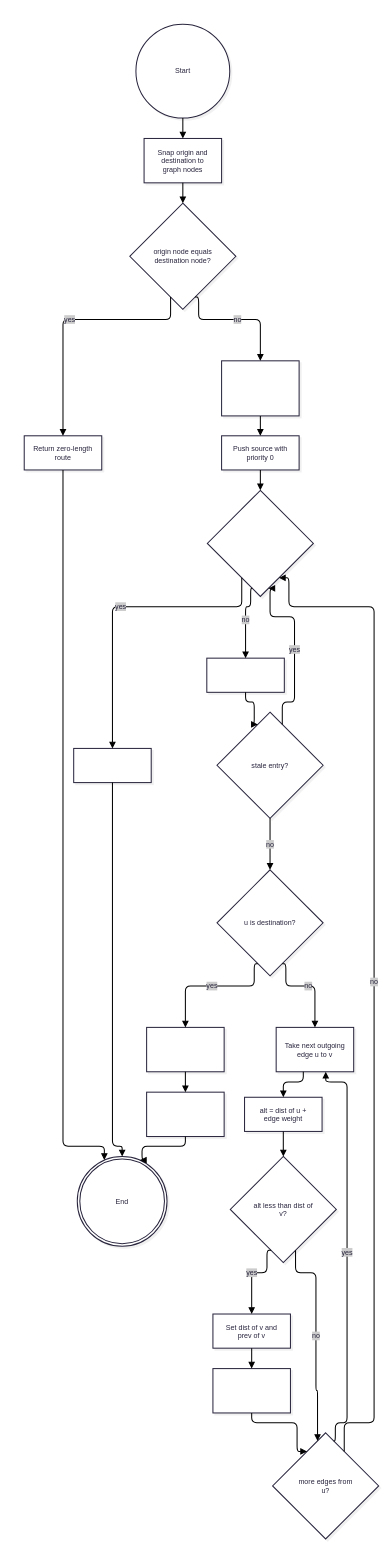
Some shapes in this 390 by 1550 pixel diagram are drawn without their labels. The shapes that lost their labels are listed below. From the top down, each one's centre as x and y in pixels, then its label:
At pixel 261 389: "dist = infinity for all, dist of source = 0, prev empty".
At pixel 261 544: "heap empty?".
At pixel 246 676: "Pop node u with lowest priority".
At pixel 113 766: "Throw NoRouteError".
At pixel 186 1050: "Walk prev back to source and reverse the path".
At pixel 186 1115: "Sum distance and time, build polyline".
At pixel 252 1391: "Push v with priority alt (A* adds h of v)".
